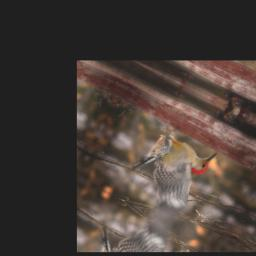Woodpecker: (117, 121, 219, 228)
